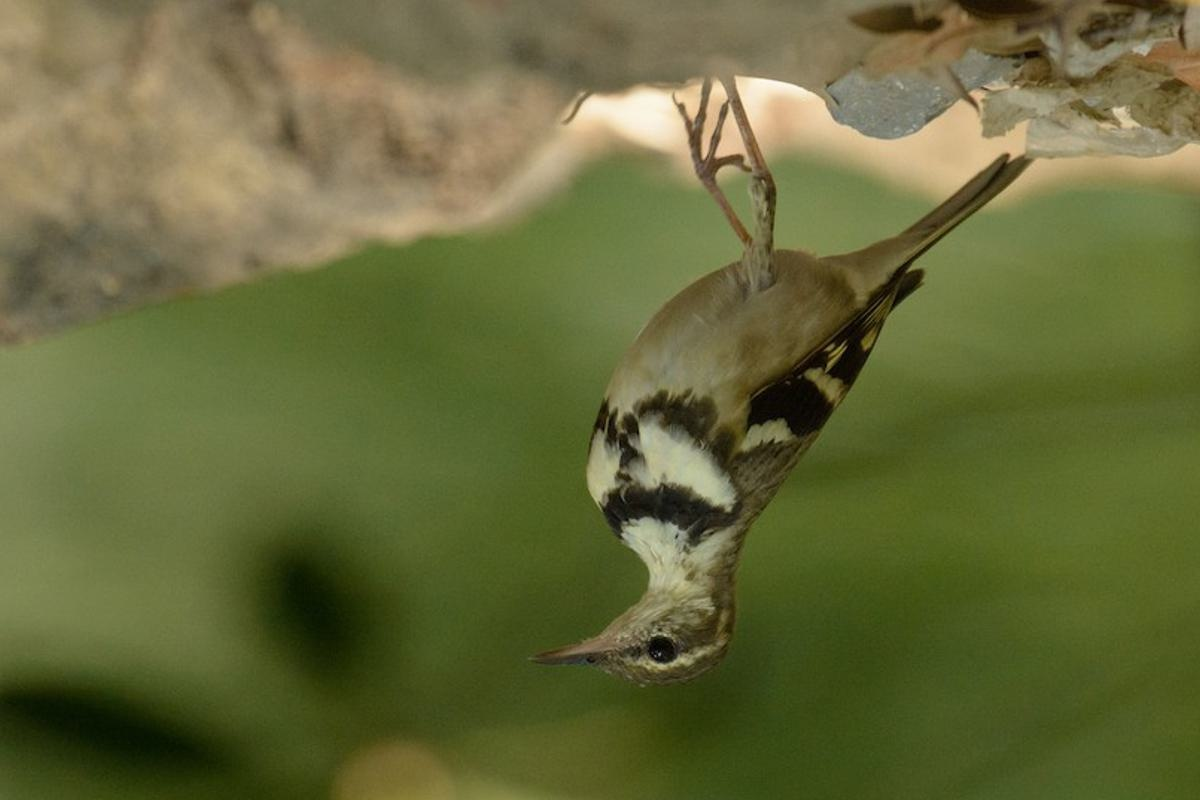wagtail: (516, 100, 1076, 711)
